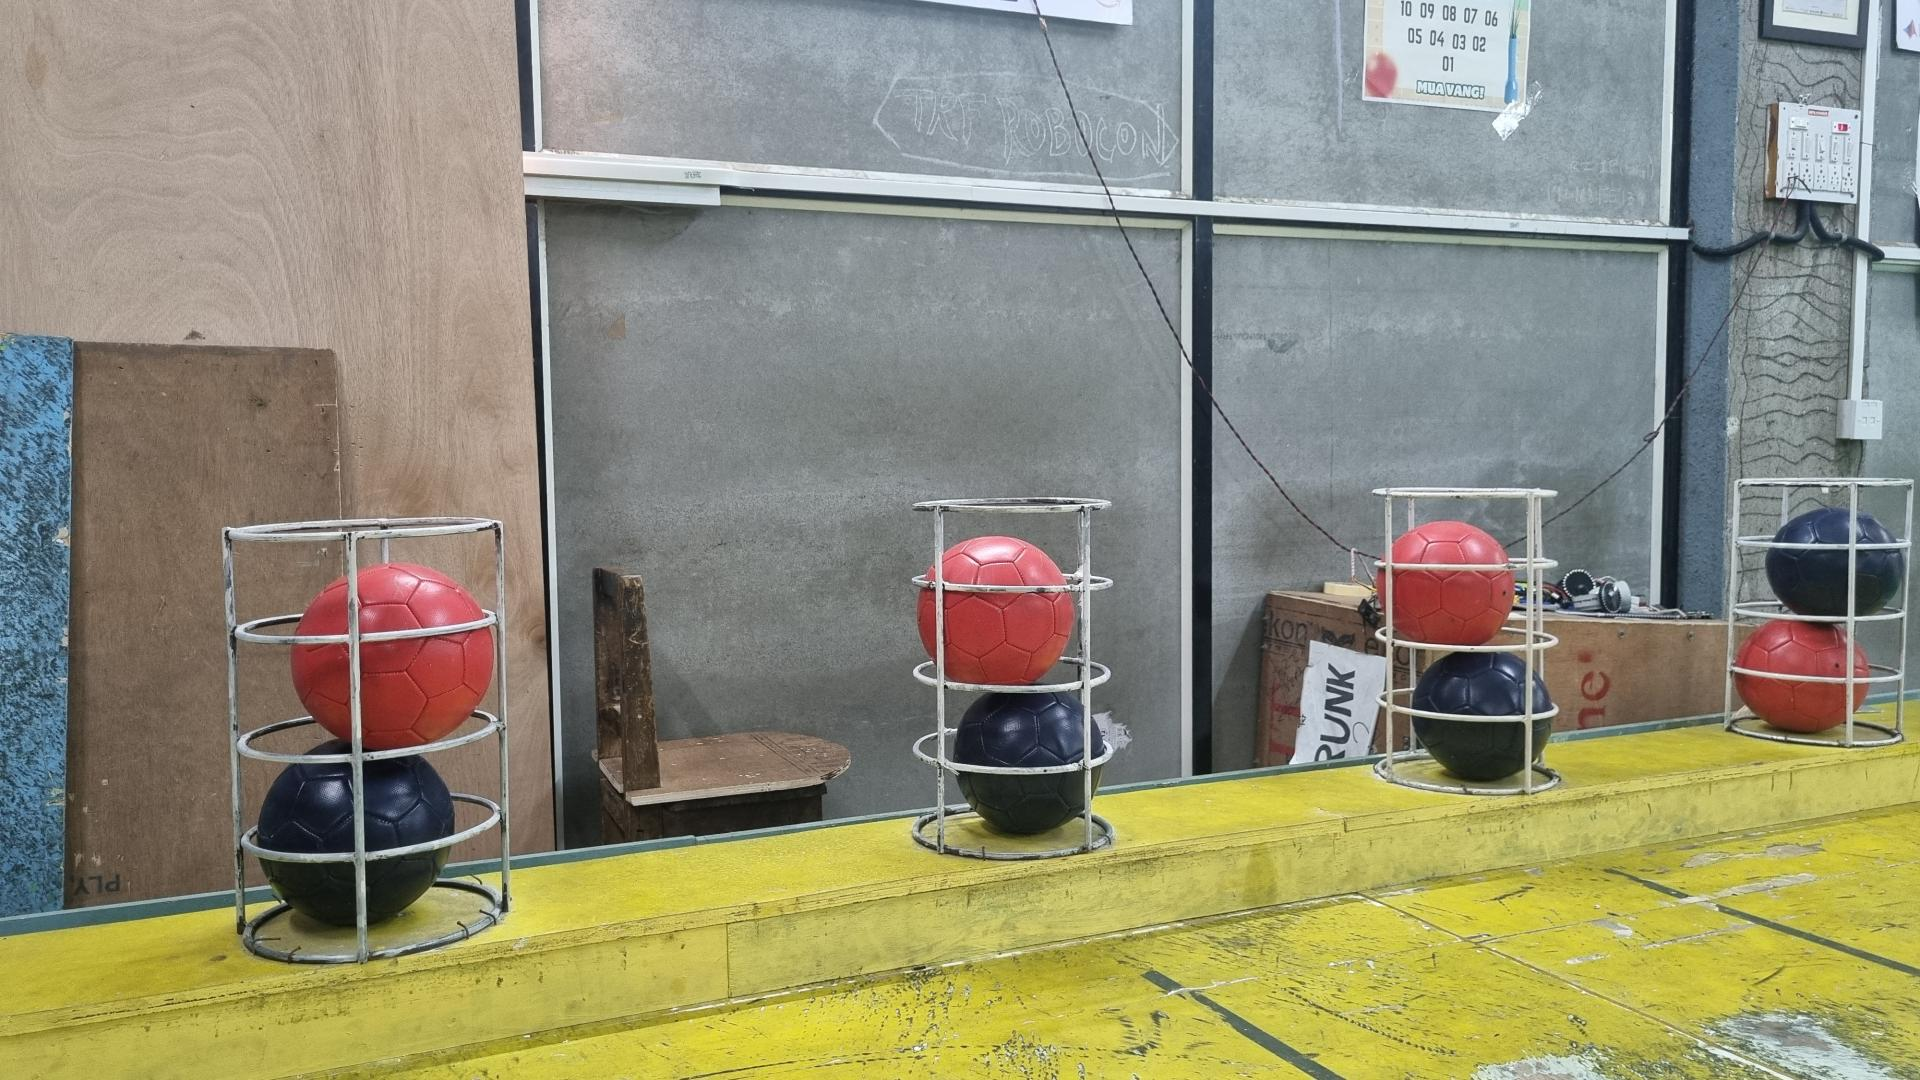dhoka: (252, 742, 454, 930), (948, 694, 1110, 836), (1410, 651, 1556, 783), (1763, 506, 1905, 618)
laale: (289, 562, 495, 753), (915, 535, 1072, 686), (1377, 521, 1515, 645), (1733, 618, 1871, 735)
